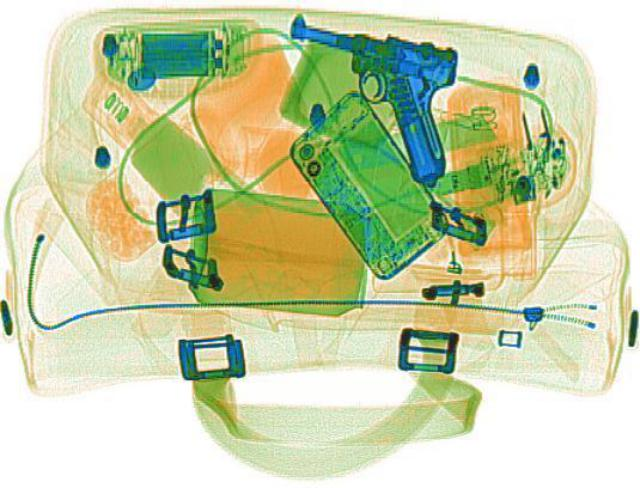Gun: (239, 19, 487, 184)
